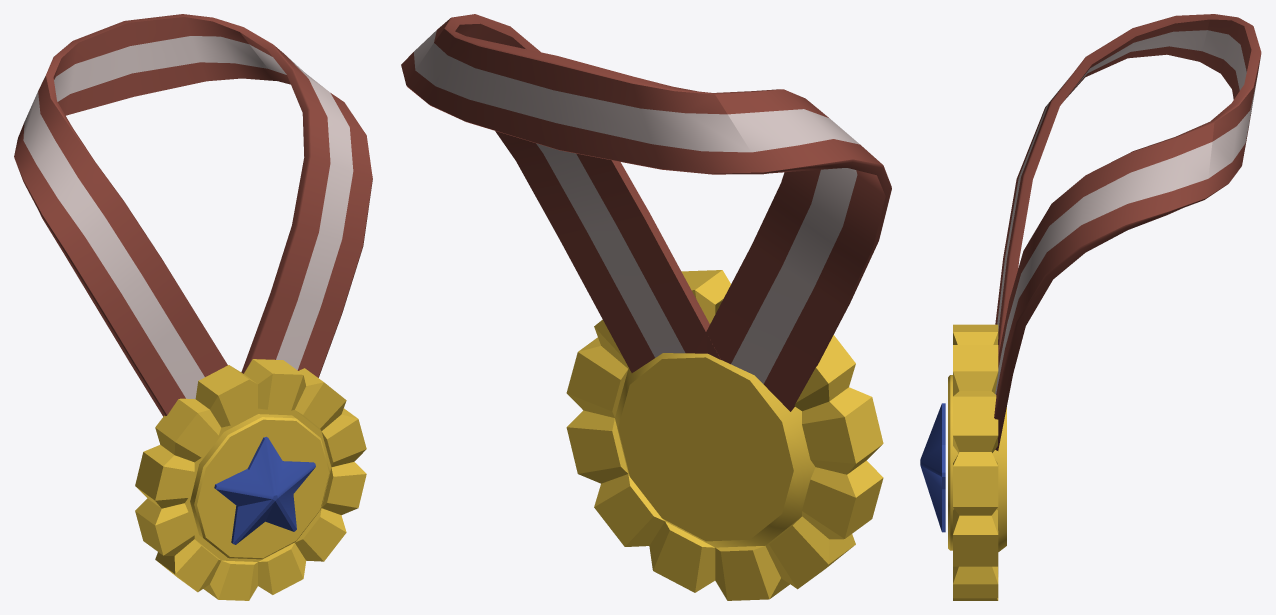
Rendered from Medal.fbx.
3 renders of one model, left to right at view 1: azimuth 30°, elevation 25°; view 2: azimuth 150°, elevation 25°; view 3: azimuth 270°, elevation 25°, orthographic. The views are drawn at different scales.
Visible parts, largest first — view 1: pPlane31, pCylinder2, pCylinder3; view 2: pPlane31, pCylinder2; view 3: pPlane31, pCylinder2, pCylinder3.
Boxes of the visible parts, left/top/right/bottom form: pPlane31: left=14, top=14, right=372, bottom=416; pCylinder2: left=135, top=359, right=366, bottom=600; pCylinder3: left=214, top=436, right=315, bottom=544; pPlane31: left=401, top=14, right=891, bottom=411; pCylinder2: left=566, top=270, right=883, bottom=600; pPlane31: left=994, top=14, right=1261, bottom=450; pCylinder2: left=948, top=324, right=1006, bottom=600; pCylinder3: left=920, top=403, right=945, bottom=532.
Bounding box in the file's own units: 25.02 × 35.13 × 20.2.
